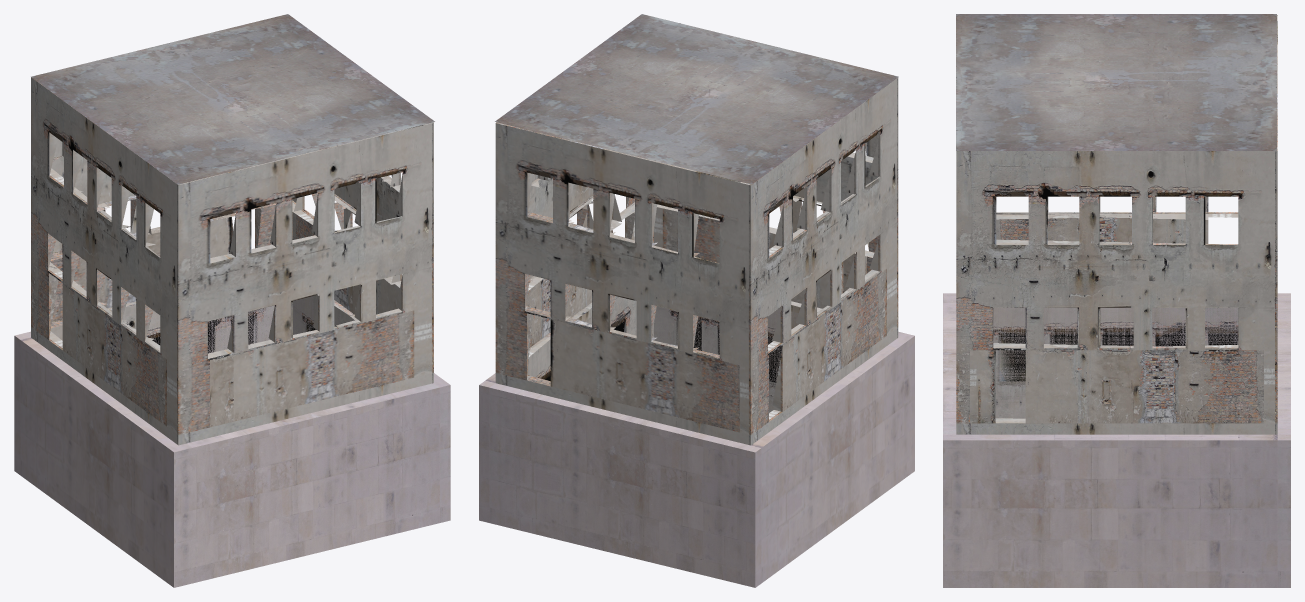
The model's file is BagBuilding23_140.fbx.
3 views of the same model, side by side, from view 1: azimuth 30°, elevation 25°; view 2: azimuth 150°, elevation 25°; view 3: azimuth 270°, elevation 25° (orthographic). The views are drawn at different scales.
Parts seen in each view (by area): view 1: walls140, basement140, roofs140; view 2: walls140, basement140, roofs140; view 3: walls140, basement140, roofs140.
Part boxes in pixels (x1=…): walls140: x1=31, y1=77, x2=433, y2=445; basement140: x1=14, y1=296, x2=450, y2=587; roofs140: x1=31, y1=14, x2=434, y2=184; walls140: x1=495, y1=78, x2=898, y2=445; basement140: x1=479, y1=304, x2=914, y2=587; roofs140: x1=495, y1=14, x2=898, y2=184; walls140: x1=956, y1=15, x2=1277, y2=434; basement140: x1=943, y1=293, x2=1290, y2=587; roofs140: x1=956, y1=14, x2=1276, y2=150.
Bounding box in the file's own units: 19.21 × 26.33 × 19.21.
